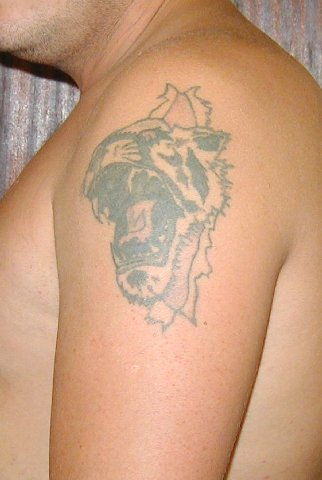tatu5_tigr: (80, 118, 232, 306)
